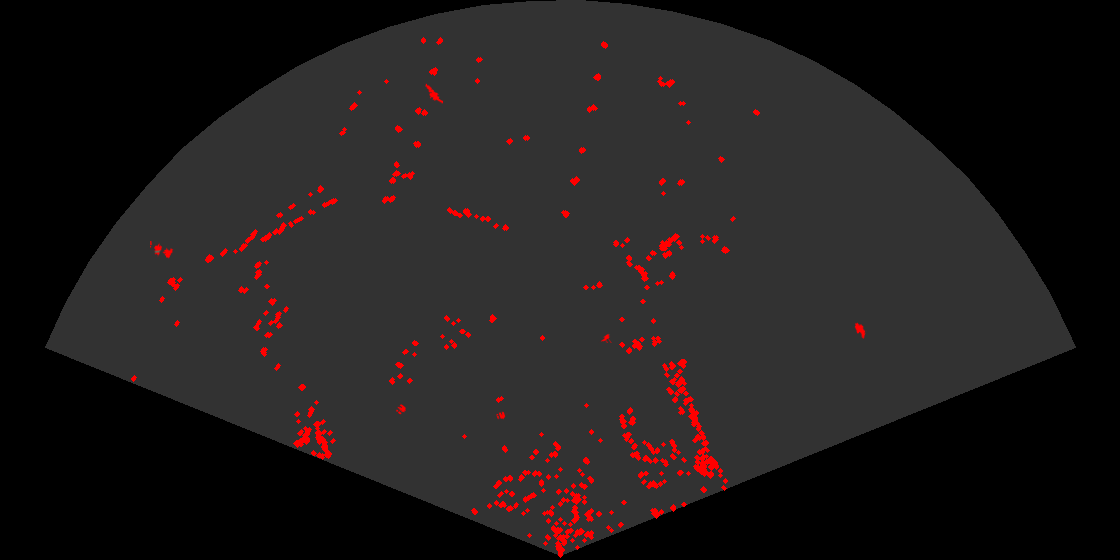AUV: (853, 321, 867, 340), (598, 333, 612, 343)
ball: (394, 403, 408, 416), (495, 410, 508, 421)
cage: (150, 241, 175, 260)
frogman: (423, 83, 443, 104)
